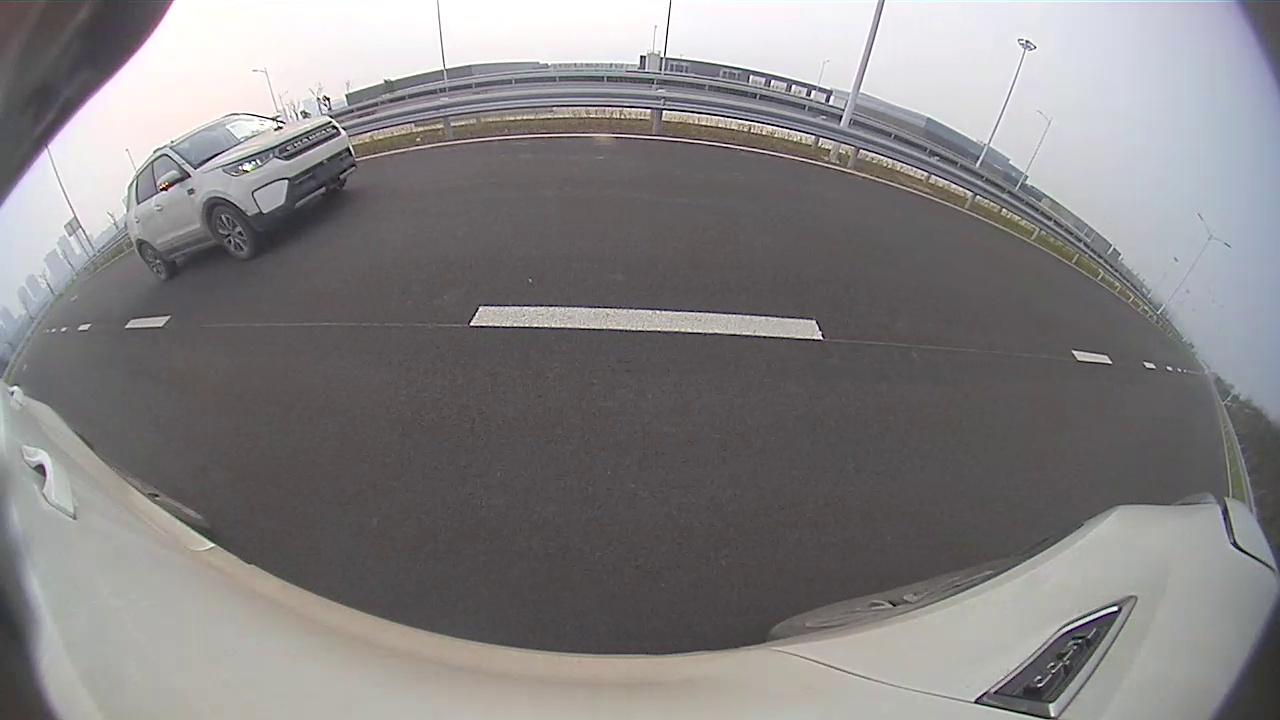car: (126, 113, 358, 281)
front: (208, 203, 254, 259)
rear: (137, 244, 174, 281)
